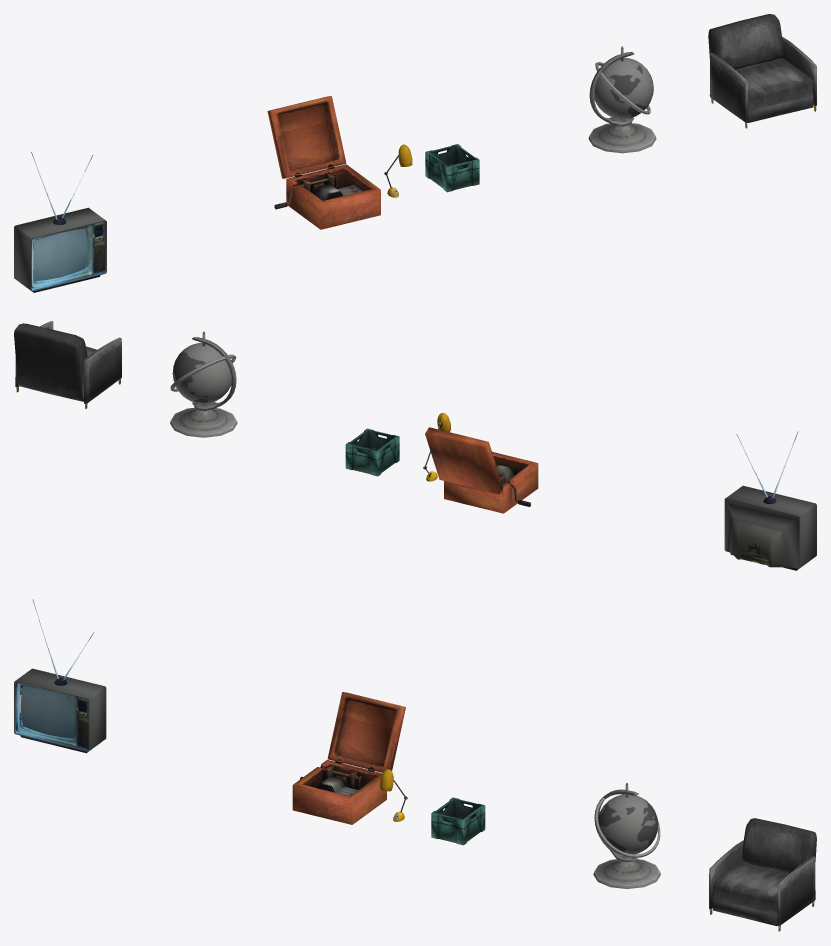
The model's file is ThrowupsMesh3.fbx.
3 views of the same model, one above another, from view 1: azimuth 30°, elevation 25°; view 2: azimuth 150°, elevation 25°; view 3: azimuth 330°, elevation 25° (orthographic).
Parts seen in each view (by area): view 1: music_box_Mesh, couch_Mesh, OldTV_Mesh, World_Globe_Mesh, BoxMesh; view 2: OldTV_Mesh, couch_Mesh, music_box_Mesh, World_Globe_Mesh, BoxMesh; view 3: music_box_Mesh, couch_Mesh, OldTV_Mesh, World_Globe_Mesh, BoxMesh.
Part boxes in pixels (box(x1,y1,x2,y2)): music_box_Mesh: box(267, 96, 380, 229); couch_Mesh: box(708, 14, 816, 128); OldTV_Mesh: box(14, 151, 106, 292); World_Globe_Mesh: box(588, 46, 656, 153); BoxMesh: box(425, 144, 479, 192); OldTV_Mesh: box(724, 431, 816, 570); couch_Mesh: box(14, 321, 121, 409); music_box_Mesh: box(425, 427, 538, 513); World_Globe_Mesh: box(170, 331, 237, 437); BoxMesh: box(345, 428, 399, 476); music_box_Mesh: box(292, 692, 405, 824); couch_Mesh: box(709, 818, 816, 931); OldTV_Mesh: box(14, 599, 106, 753); World_Globe_Mesh: box(593, 783, 660, 888); BoxMesh: box(431, 797, 485, 845).
Bounding box in the file's own units: 26.14 × 4.33 × 3.34.
